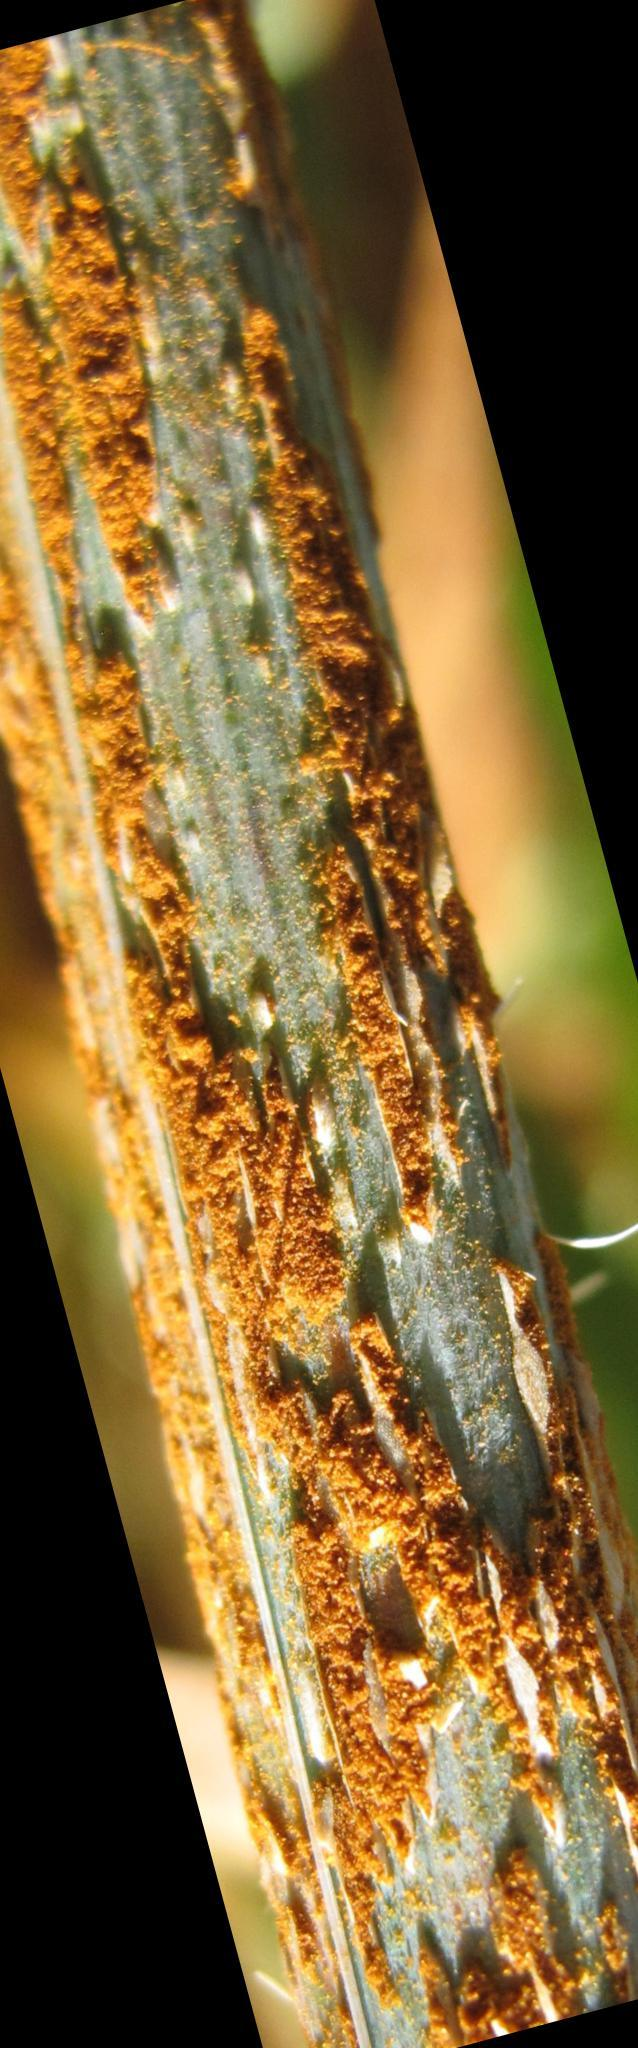Wheat: (4, 44, 438, 666), (214, 1519, 638, 2048), (37, 699, 497, 1123), (174, 1144, 540, 1505)
